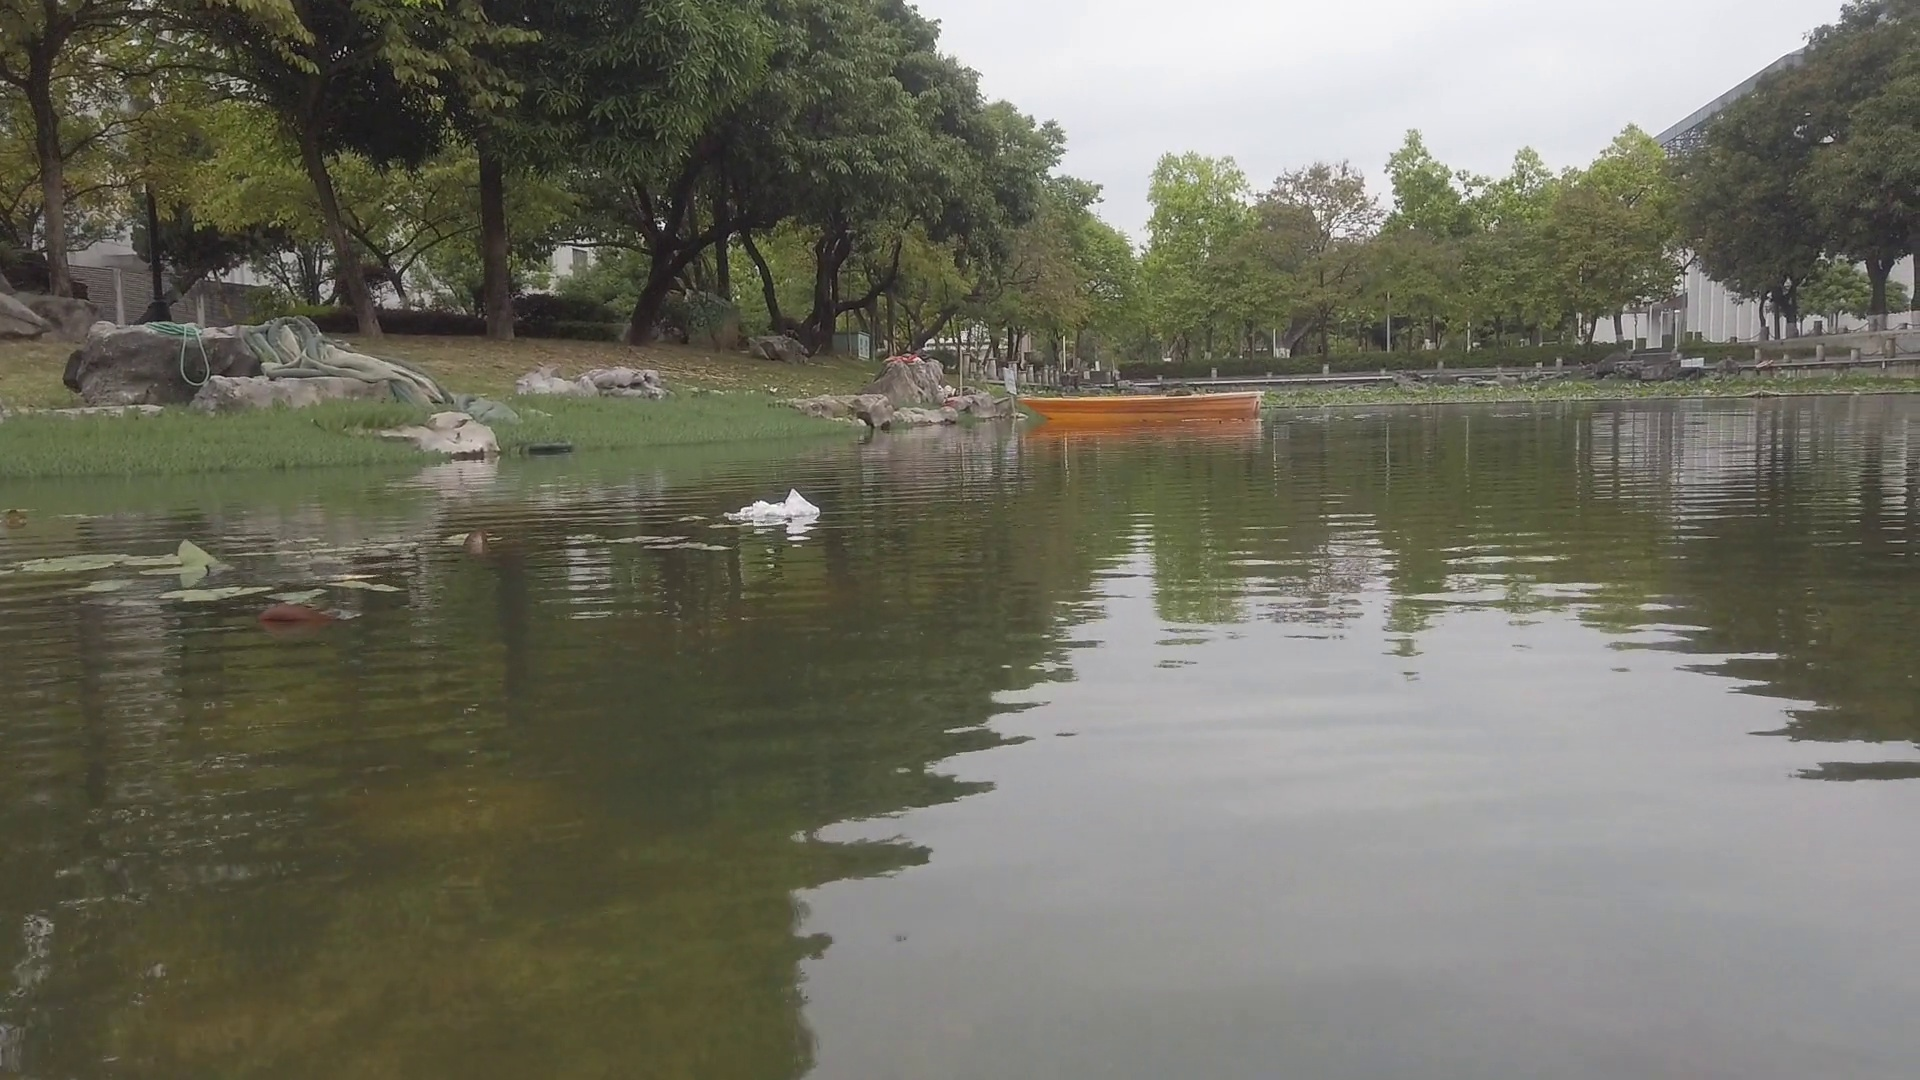plastic: (735, 491, 822, 527)
